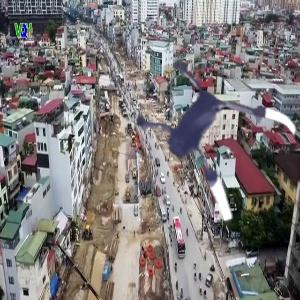drone: (113, 45, 300, 233)
